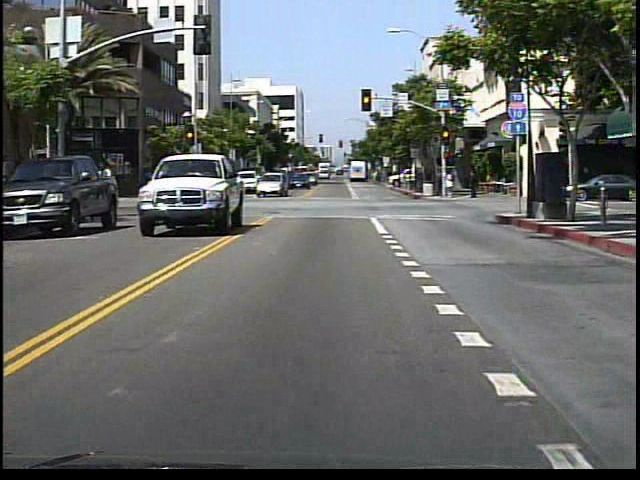person: (465, 169, 480, 201), (178, 170, 191, 198), (445, 169, 456, 198)
